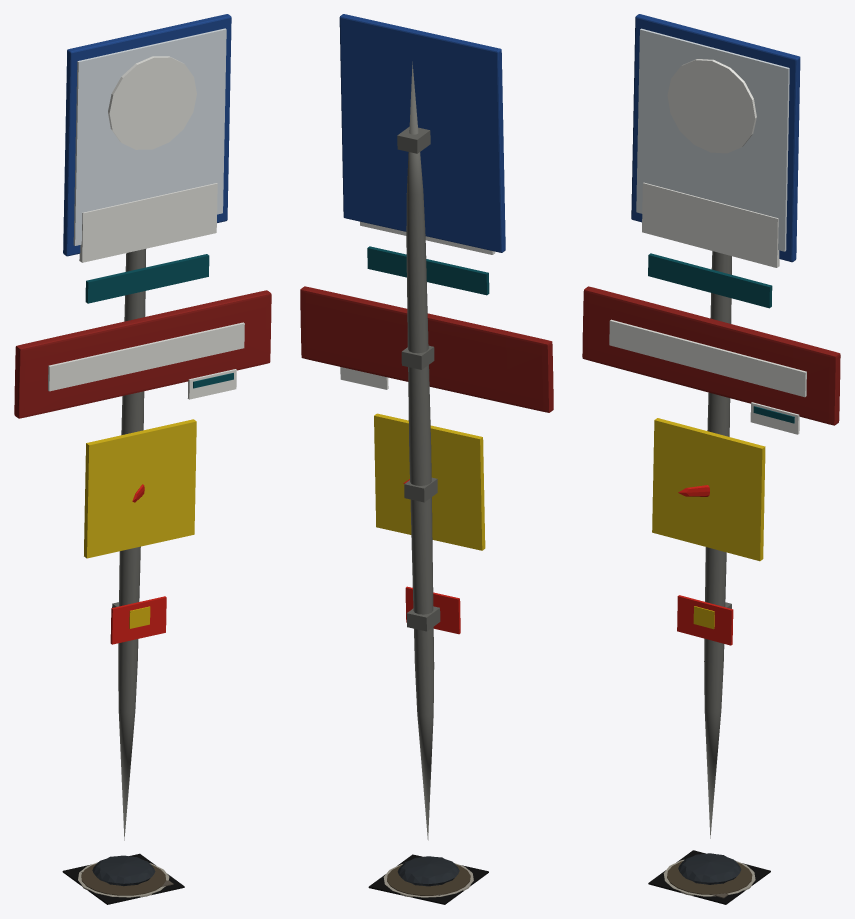
File: hm_prop_sign_post_v2.obj
3 renders of one model, left to right at view 1: azimuth 30°, elevation 25°; view 2: azimuth 150°, elevation 25°; view 3: azimuth 330°, elevation 25°, orthographic.
Parts seen in each view (by area): view 1: Sign_ParkRefl, Sign_Street, Sign_NoPark, Sign_Time, Sign_P, Sign_Park, Sign_Pole, Sign_Text, Sign_PW, hm_prop_sign_post_v2_UtilWarn, Sign_Base, hm_prop_sign_post_v2_Dirt (+2 smaller); view 2: Sign_Park, Sign_Street, Sign_Pole, Sign_NoPark, Sign_PW, Sign_Base, hm_prop_sign_post_v2_Dirt, hm_prop_sign_post_v2_UtilWarn, hm_prop_sign_post_v2_Shadow, Sign_Br_2.12, hm_prop_sign_post_v2_AssetPlate, Sign_Br_0.75 (+3 smaller); view 3: Sign_ParkRefl, Sign_Street, Sign_NoPark, Sign_Time, Sign_P, Sign_Park, Sign_Pole, Sign_Text, Sign_PW, hm_prop_sign_post_v2_UtilWarn, Sign_Base, hm_prop_sign_post_v2_Dirt (+2 smaller).
Part boxes in pixels (x1,y1,x2,y2): Sign_ParkRefl: (73,28,226,245); Sign_Street: (14,290,271,418); Sign_NoPark: (84,419,196,558); Sign_Time: (79,183,217,262); Sign_P: (108,56,196,149); Sign_Park: (63,14,231,256); Sign_Pole: (118,249,145,840); Sign_Text: (48,322,244,391); Sign_PW: (85,254,209,303); hm_prop_sign_post_v2_UtilWarn: (110,596,166,644); Sign_Base: (92,855,155,886); hm_prop_sign_post_v2_Dirt: (81,864,166,895); Sign_Park: (339,14,505,252); Sign_Street: (300,286,553,412); Sign_Pole: (406,61,434,840); Sign_NoPark: (374,413,485,550); Sign_PW: (367,246,489,295); Sign_Base: (397,856,459,886); hm_prop_sign_post_v2_Dirt: (387,864,470,895); hm_prop_sign_post_v2_UtilWarn: (405,586,460,634); hm_prop_sign_post_v2_Shadow: (368,854,488,904); Sign_Br_2.12: (397,126,430,153); hm_prop_sign_post_v2_AssetPlate: (340,367,388,389); Sign_Br_0.75: (406,606,440,631); Sign_ParkRefl: (636,28,789,251); Sign_Street: (582,286,840,425); Sign_NoPark: (652,418,765,561); Sign_Time: (642,182,779,267); Sign_P: (667,59,756,153); Sign_Park: (631,14,800,262); Sign_Pole: (704,251,731,838); Sign_Text: (609,319,806,397); Sign_PW: (648,253,772,308); hm_prop_sign_post_v2_UtilWarn: (677,595,733,645); Sign_Base: (678,853,741,884); hm_prop_sign_post_v2_Dirt: (667,861,752,894).
Bounding box in the file's own units: 0.7524 × 2.42 × 0.2376.
